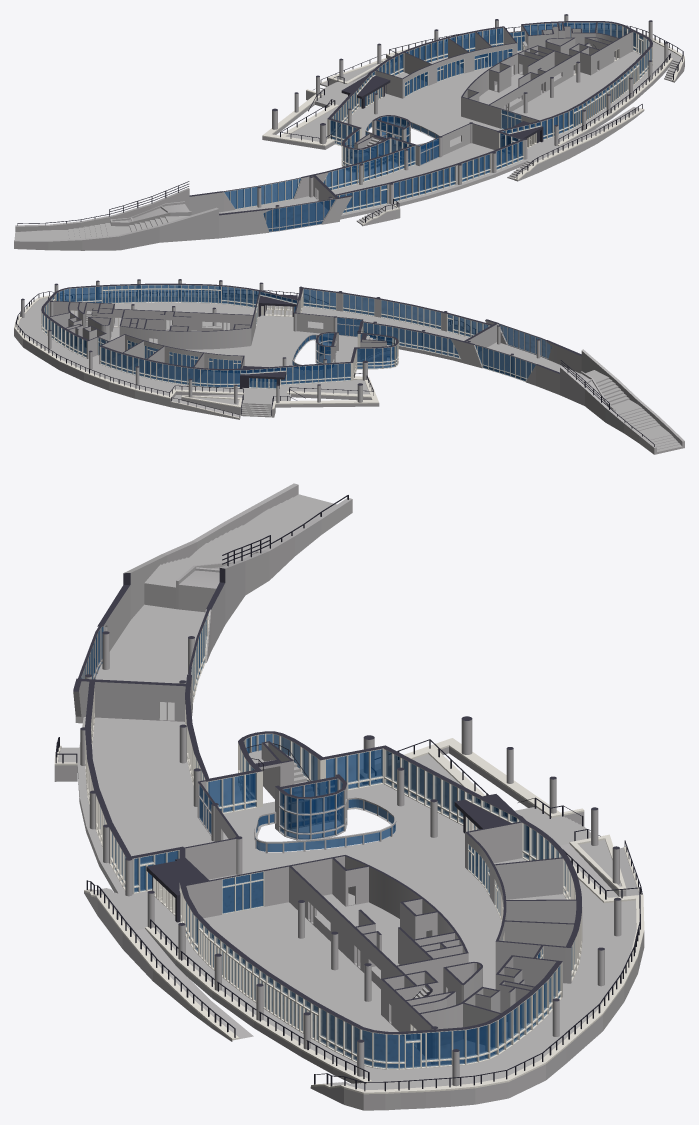
3 views of the same model, one above another, from view 1: azimuth 30°, elevation 25°; view 2: azimuth 150°, elevation 25°; view 3: azimuth 270°, elevation 25° (orthographic). The views are drawn at different scales.
Visible parts, largest first — view 1: GIMC_1F; view 2: GIMC_1F; view 3: GIMC_1F.
Boxes of the visible parts, bbox=[...] form: GIMC_1F: bbox=[14, 14, 684, 250]; GIMC_1F: bbox=[14, 279, 684, 454]; GIMC_1F: bbox=[54, 483, 644, 1110].
Size of the model in its own units: 251 by 15.35 by 102.
Materials: 2 (2 with a texture image).
